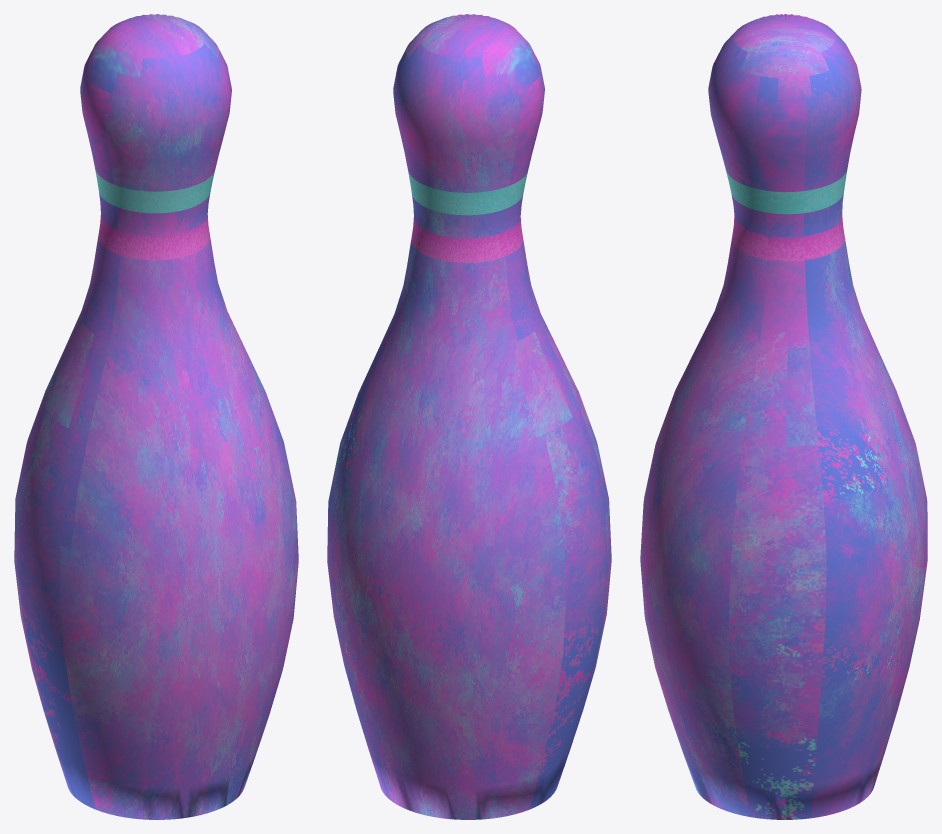
The model's file is Rainbow Pin.fbx.
3 views of the same model, side by side, from view 1: azimuth 30°, elevation 25°; view 2: azimuth 150°, elevation 25°; view 3: azimuth 270°, elevation 25° (orthographic).
Visible parts, largest first — view 1: Lead Pin.001; view 2: Lead Pin.001; view 3: Lead Pin.001.
Boxes of the visible parts, x1=… form: Lead Pin.001: x1=14, y1=14, x2=298, y2=819; Lead Pin.001: x1=327, y1=14, x2=611, y2=819; Lead Pin.001: x1=640, y1=14, x2=927, y2=819.
Size of the model in its own units: 131 by 387 by 133.
Materials: 1 (1 with a texture image).
